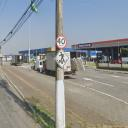speed_limit_40: (55, 35, 67, 49)
